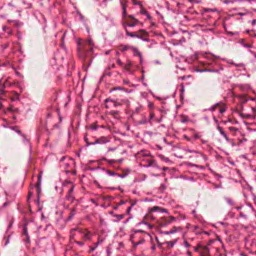mitosis: (18, 130, 28, 140)
